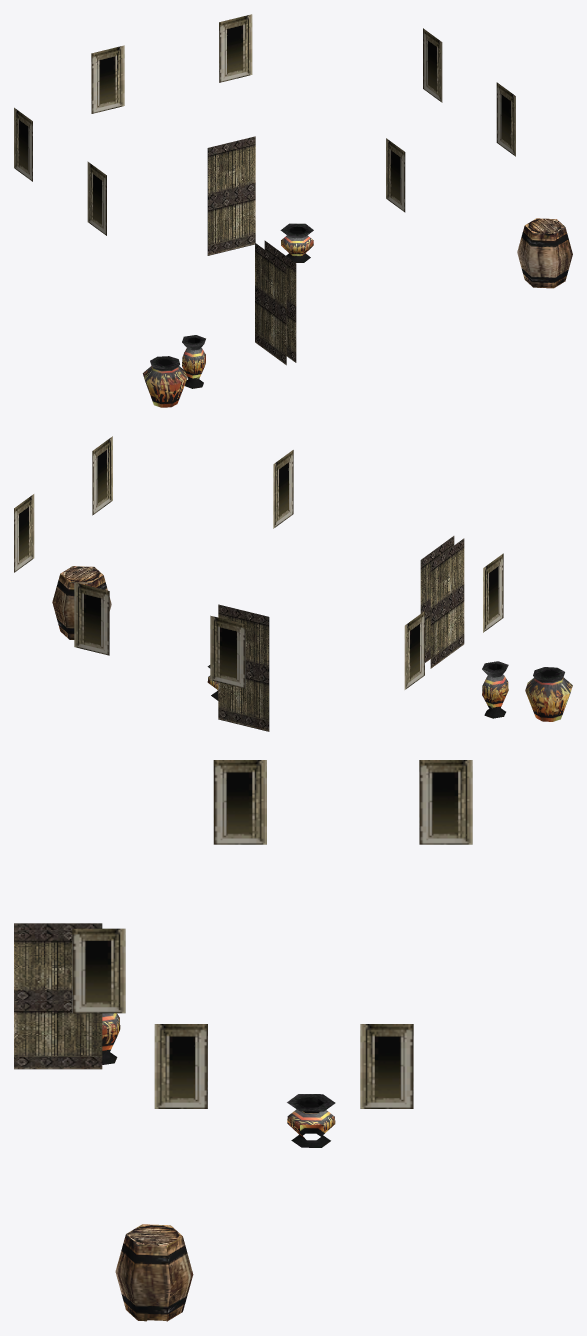
Rendered from hele_house_a_props.dae.
The picture shows the model from 3 angles, top to bottom: view 1: azimuth 30°, elevation 25°; view 2: azimuth 150°, elevation 25°; view 3: azimuth 270°, elevation 25°; orthographic projection. The views are drawn at different scales.
Parts seen in each view (by area): view 1: Object1040; view 2: Object1040; view 3: Object1040.
Boxes of the visible parts, x1,y1,x2,y2 form: Object1040: (14,14,572,407); Object1040: (14,436,572,731); Object1040: (14,760,472,1321).
Bounding box in the file's own units: 16.18 × 6.58 × 12.43.
